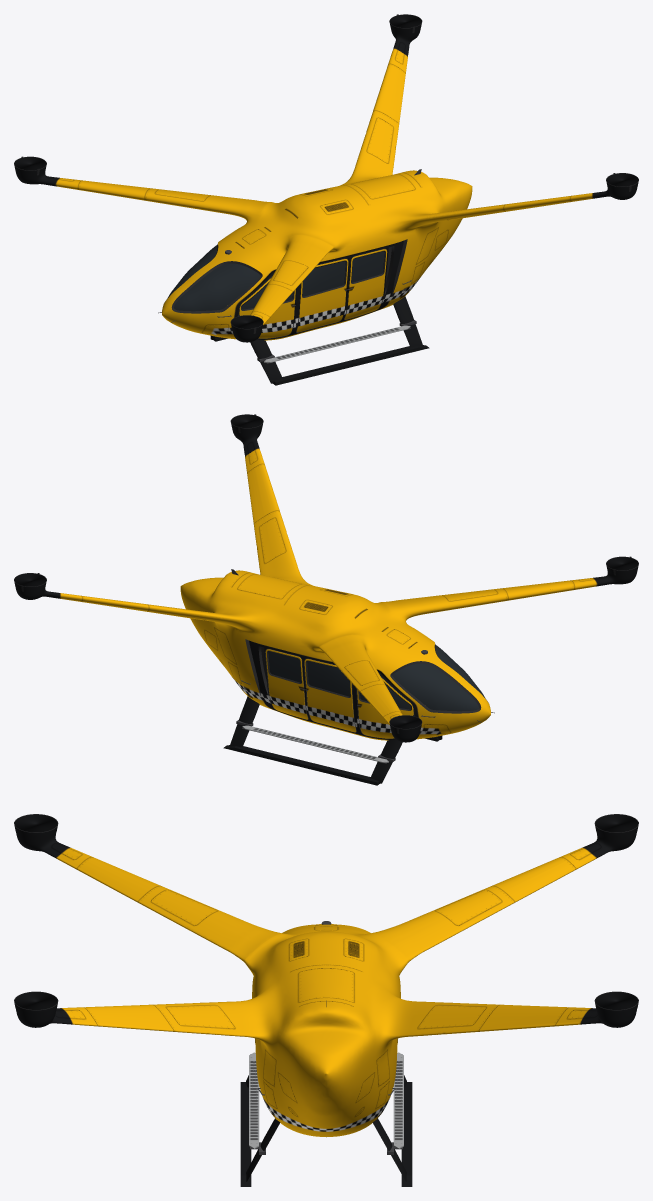
Rendered from body.glb.
The picture shows the model from 3 angles, top to bottom: view 1: azimuth 30°, elevation 25°; view 2: azimuth 150°, elevation 25°; view 3: azimuth 270°, elevation 25°; orthographic projection. The views are drawn at different scales.
Parts seen in each view (by area): view 1: body.001; view 2: body.001; view 3: body.001.
Boxes of the visible parts, x1=… form: body.001: x1=14, y1=14, x2=638, y2=385; body.001: x1=14, y1=414, x2=638, y2=785; body.001: x1=14, y1=814, x2=638, y2=1186.
Size of the model in its own units: 8.16 by 3.8 by 8.16.
Materials: 1 (1 with a texture image).
